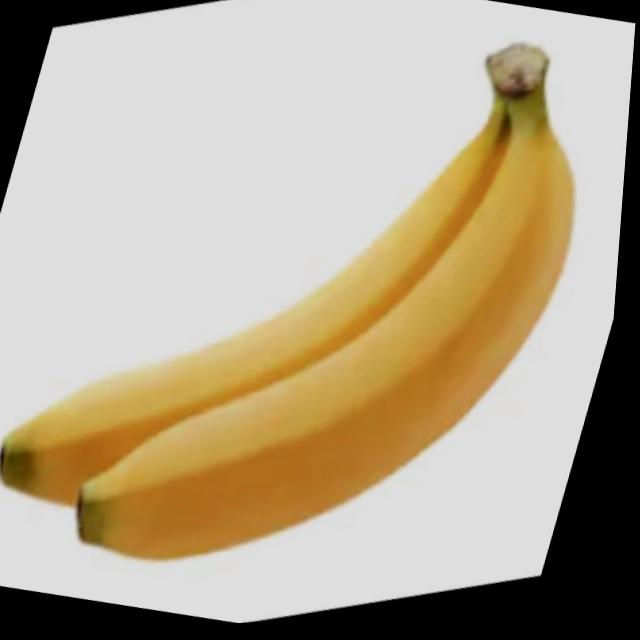Banana: (0, 0, 631, 639)
